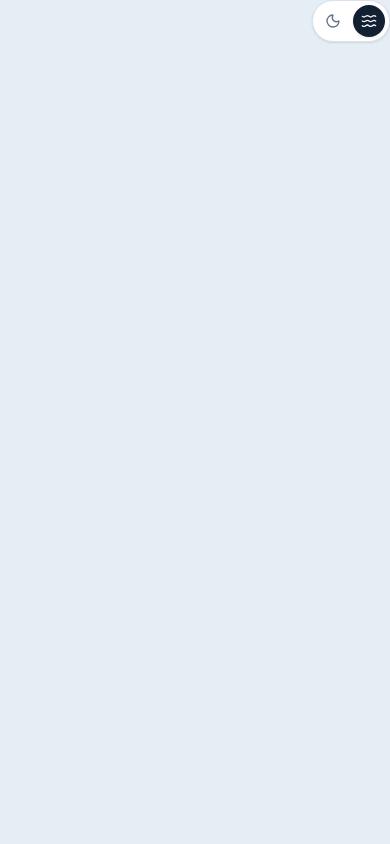
ThemeSwitcher › switches to the dark palette
This screenshot has width=390, height=844.
Click the button named "ערכת צבעים כהה" at (333, 21), box left=317, top=5, right=349, bottom=37
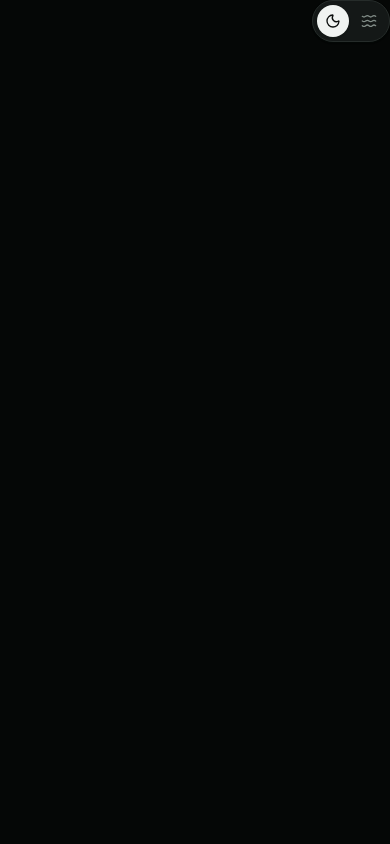
Expected: the button named "ערכת צבעים כהה" is pressed, left=317, top=5, right=349, bottom=37
